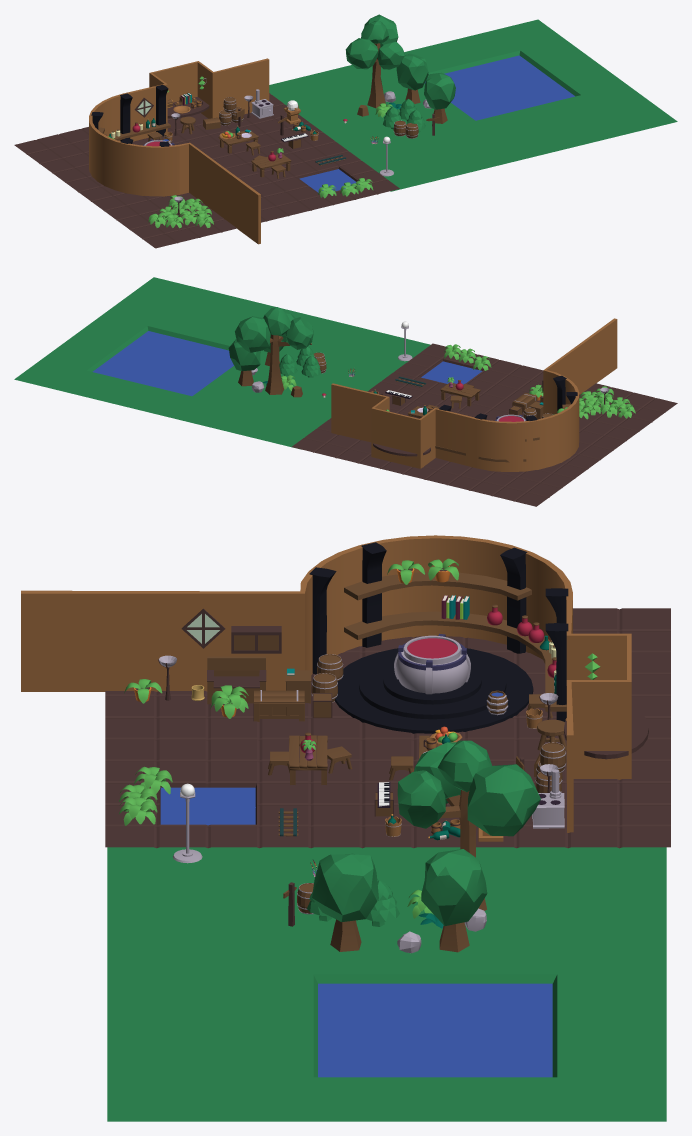
The model's file is atelier.glb.
3 renders of one model, top to bottom at view 1: azimuth 30°, elevation 25°; view 2: azimuth 150°, elevation 25°; view 3: azimuth 270°, elevation 25°, orthographic. The views are drawn at different scales.
Parts seen in each view (by area): view 1: Plane, floor, walls, waterplane.001, s_tree.004, s_tree.007, s_tree.002, waterplane, pillar.001, pillar.002, Cube.002, Cube.006 (+2 smaller); view 2: Plane, floor, walls, waterplane.001, s_tree.004, s_tree.002, waterplane, Cube.002; view 3: Plane, floor, walls, waterplane.001, cauldron.base, s_tree.004, shelf, s_tree.002, s_tree.007, waterplane, bench.001, cauldron.pot (+12 smaller).
Boxes of the visible parts, bbox=[...] form: Plane: bbox=[269, 19, 677, 191]; floor: bbox=[14, 93, 399, 248]; walls: bbox=[89, 58, 269, 244]; waterplane.001: bbox=[424, 55, 574, 120]; s_tree.004: bbox=[345, 14, 404, 108]; s_tree.007: bbox=[424, 72, 455, 123]; s_tree.002: bbox=[396, 53, 428, 103]; waterplane: bbox=[299, 169, 359, 192]; pillar.001: bbox=[155, 84, 168, 136]; pillar.002: bbox=[120, 93, 132, 141]; Cube.002: bbox=[251, 153, 291, 177]; Cube.006: bbox=[251, 89, 273, 118]; Plane: bbox=[14, 277, 430, 449]; floor: bbox=[292, 343, 677, 506]; walls: bbox=[331, 318, 617, 471]; waterplane.001: bbox=[92, 331, 233, 396]; s_tree.004: bbox=[235, 307, 313, 394]; s_tree.002: bbox=[228, 339, 260, 386]; waterplane: bbox=[421, 361, 482, 384]; Cube.002: bbox=[440, 383, 480, 406]; Plane: bbox=[107, 847, 666, 1121]; floor: bbox=[105, 608, 670, 848]; walls: bbox=[21, 535, 631, 832]; waterplane.001: bbox=[318, 983, 552, 1077]; cauldron.base: bbox=[335, 648, 533, 733]; s_tree.004: bbox=[397, 740, 540, 910]; shelf: bbox=[344, 572, 566, 711]; s_tree.002: bbox=[421, 849, 487, 952]; s_tree.007: bbox=[312, 853, 378, 951]; waterplane: bbox=[160, 787, 255, 825]; bench.001: bbox=[207, 656, 266, 704]; cauldron.pot: bbox=[394, 647, 470, 694].
Size of the model in its own units: 78.05 by 14.61 by 41.99.
1 material, 1 textured.
